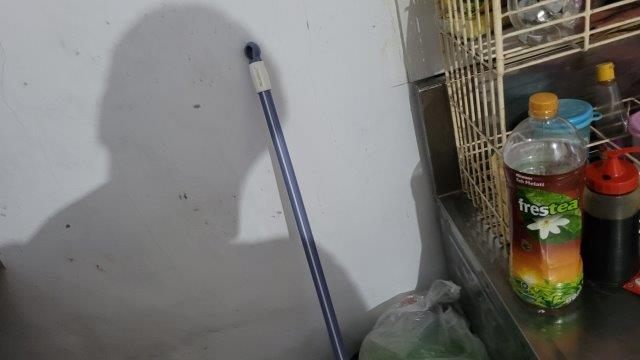botolplastik: (503, 92, 586, 309)
